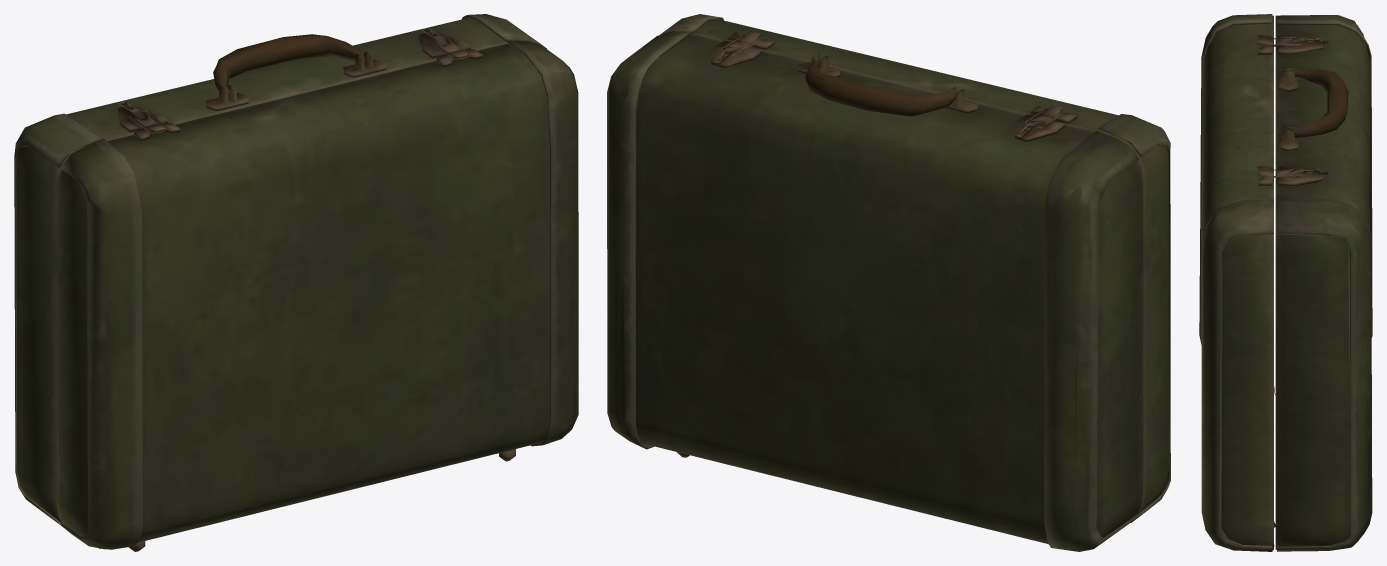
File: vintage_suitcase.lite.glb
3 views of the same model, side by side, from view 1: azimuth 30°, elevation 25°; view 2: azimuth 150°, elevation 25°; view 3: azimuth 270°, elevation 25° (orthographic). The views are drawn at different scales.
Parts seen in each view (by area): view 1: vintage_suitcase_01_bottom; view 2: vintage_suitcase_01_bottom; view 3: vintage_suitcase_01_bottom.
Boxes of the visible parts, left/top/right/bottom form: vintage_suitcase_01_bottom: left=14, top=14, right=578, bottom=551; vintage_suitcase_01_bottom: left=607, top=14, right=1170, bottom=551; vintage_suitcase_01_bottom: left=1199, top=14, right=1372, bottom=551.
Size of the model in its own units: 0.6928 by 0.5678 by 0.2368.
Materials: 1 (1 with a texture image).
